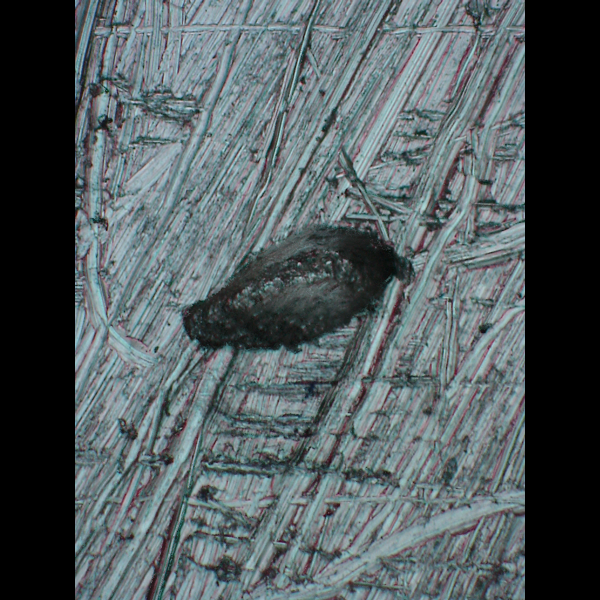d: (174, 222, 423, 362)
